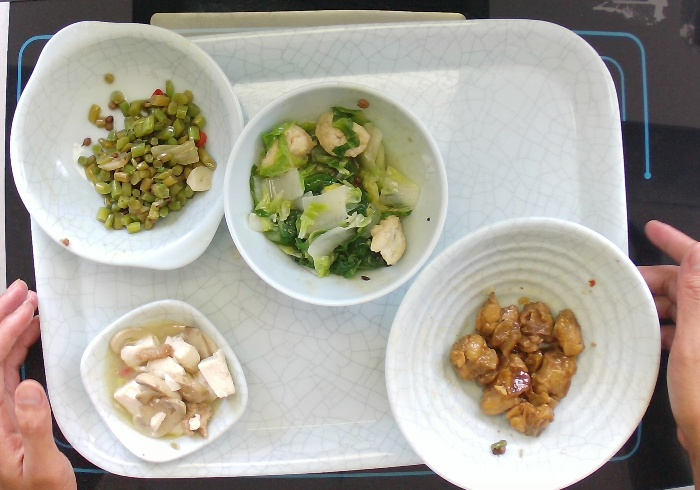JYsf-Fan_Wan: (218, 75, 451, 314)
JYsf-Shuang_Er_Wan: (8, 16, 250, 277)
JYsf-Si_Fang_Die: (73, 292, 253, 469)
JYsf-Xiao_Tang_Wan: (376, 213, 665, 490)
